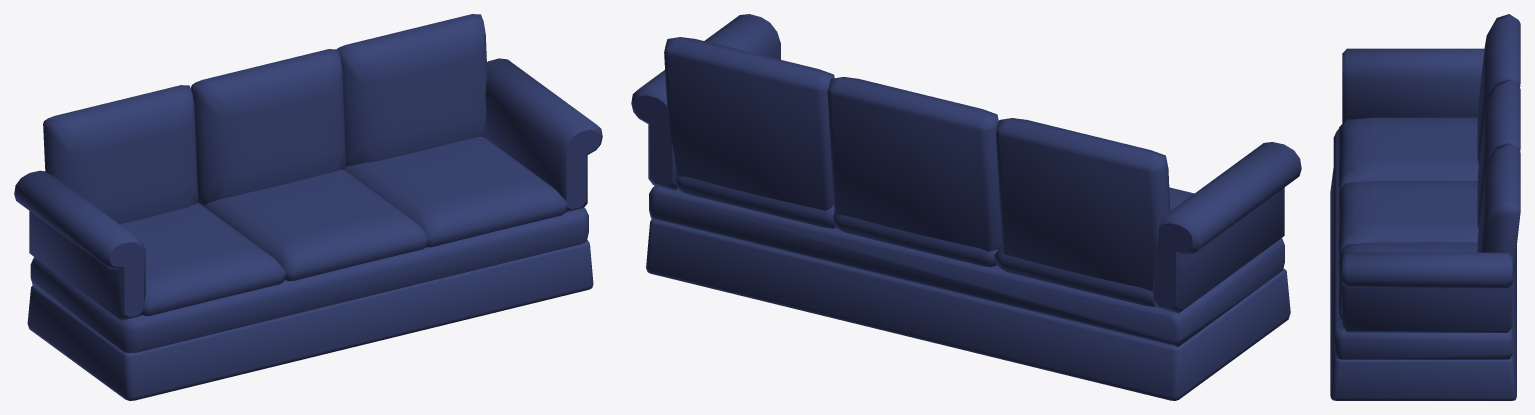
The model's file is Sofa_01.fbx.
3 views of the same model, side by side, from view 1: azimuth 30°, elevation 25°; view 2: azimuth 150°, elevation 25°; view 3: azimuth 270°, elevation 25° (orthographic). The views are drawn at different scales.
Parts seen in each view (by area): view 1: Sofa_01; view 2: Sofa_01; view 3: Sofa_01.
Part boxes in pixels (box(x1,y1,x2,y2)): Sofa_01: box(14, 14, 602, 400); Sofa_01: box(631, 14, 1301, 400); Sofa_01: box(1330, 14, 1520, 400).
Size of the model in its own units: 2.12 by 0.8504 by 0.7696.
